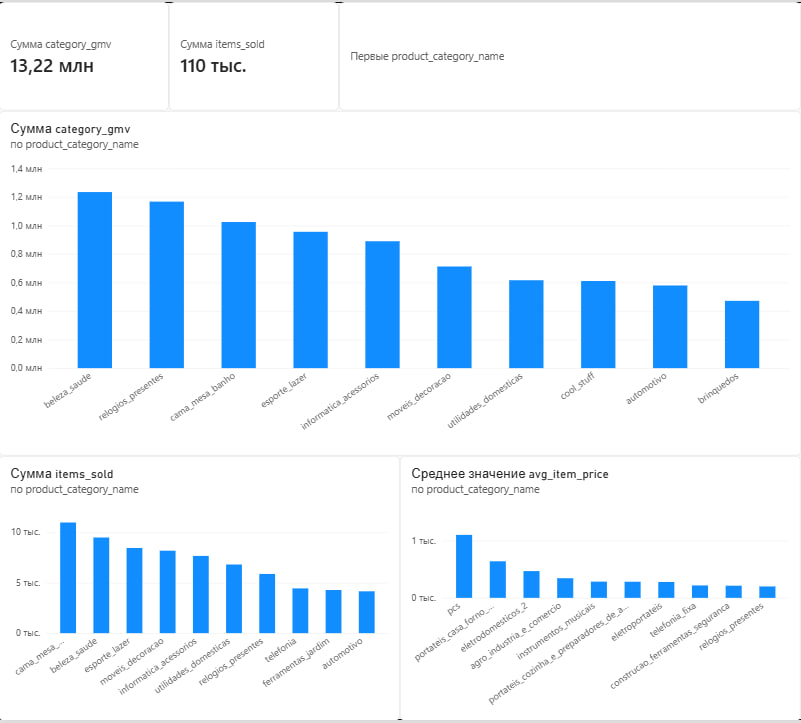

The page's visual inventory and layout, read from the dashboard file:
{"tool":"powerbi","page":{"name":"Страница 1","canvas":[1920,1080],"ordinal":0},"visuals":[{"type":"columnChart","fields":{"Category":["_SELECT_p_product_category_name_SUM_oi_price_AS_category_gmv_COU_202611242333.product_category_name"],"Y":["Sum(_SELECT_p_product_category_name_SUM_oi_price_AS_category_gmv_COU_202611242333.category_gmv)"]},"box":[0,163.8,1204.9,518.3],"z":0},{"type":"columnChart","fields":{"Category":["_SELECT_p_product_category_name_SUM_oi_price_AS_category_gmv_COU_202611242333.product_category_name"],"Y":["Sum(_SELECT_p_product_category_name_SUM_oi_price_AS_category_gmv_COU_202611242333.items_sold)"]},"box":[0,682.1,602.4,398.1],"z":1000},{"type":"columnChart","fields":{"Category":["_SELECT_p_product_category_name_SUM_oi_price_AS_category_gmv_COU_202611242333.product_category_name"],"Y":["Avg(_SELECT_p_product_category_name_SUM_oi_price_AS_category_gmv_COU_202611242333.avg_item_price)"]},"box":[602.4,682.1,602.4,398.1],"z":2000},{"type":"cardVisual","fields":{"Data":["Sum(_SELECT_p_product_category_name_SUM_oi_price_AS_category_gmv_COU_202611242333.category_gmv)"]},"box":[0,0,255.4,163.8],"z":3000},{"type":"cardVisual","fields":{"Data":["Sum(_SELECT_p_product_category_name_SUM_oi_price_AS_category_gmv_COU_202611242333.items_sold)"]},"box":[255.4,0,255.4,163.8],"z":4000},{"type":"cardVisual","fields":{"Data":["Count(_SELECT_p_product_category_name_SUM_oi_price_AS_category_gmv_COU_202611242333.product_category_name)"]},"box":[510.8,0,694.1,163.8],"z":4001}]}

Visuals, with their boxes on the page's 1920x1080 design canvas (x1, y1, x2, y2). These are canvas units, not pixel positions in the 801x723 screenshot, which may show the page scaled, cropped or inside an application window:
columnChart - _SELECT_p_product_category_name_SUM_oi_price_AS_category_gmv_COU_202611242333.product_category_name x Sum(_SELECT_p_product_category_name_SUM_oi_price_AS_category_gmv_COU_202611242333.category_gmv): [left=0, top=164, right=1205, bottom=682]
columnChart - _SELECT_p_product_category_name_SUM_oi_price_AS_category_gmv_COU_202611242333.product_category_name x Sum(_SELECT_p_product_category_name_SUM_oi_price_AS_category_gmv_COU_202611242333.items_sold): [left=0, top=682, right=602, bottom=1080]
columnChart - _SELECT_p_product_category_name_SUM_oi_price_AS_category_gmv_COU_202611242333.product_category_name x Avg(_SELECT_p_product_category_name_SUM_oi_price_AS_category_gmv_COU_202611242333.avg_item_price): [left=602, top=682, right=1205, bottom=1080]
cardVisual - Sum(_SELECT_p_product_category_name_SUM_oi_price_AS_category_gmv_COU_202611242333.category_gmv): [left=0, top=0, right=255, bottom=164]
cardVisual - Sum(_SELECT_p_product_category_name_SUM_oi_price_AS_category_gmv_COU_202611242333.items_sold): [left=255, top=0, right=511, bottom=164]
cardVisual - Count(_SELECT_p_product_category_name_SUM_oi_price_AS_category_gmv_COU_202611242333.product_category_name): [left=511, top=0, right=1205, bottom=164]
